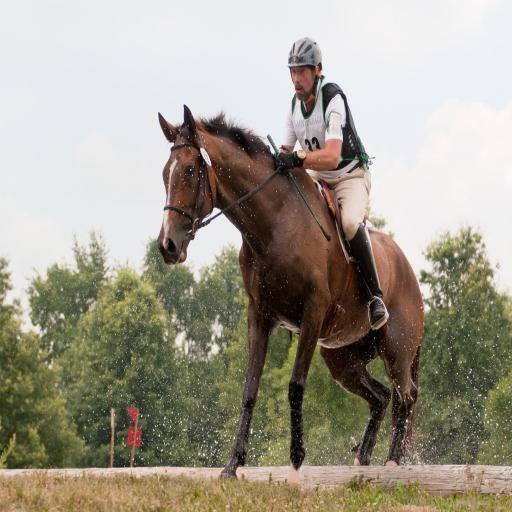horse: (158, 104, 425, 484)
